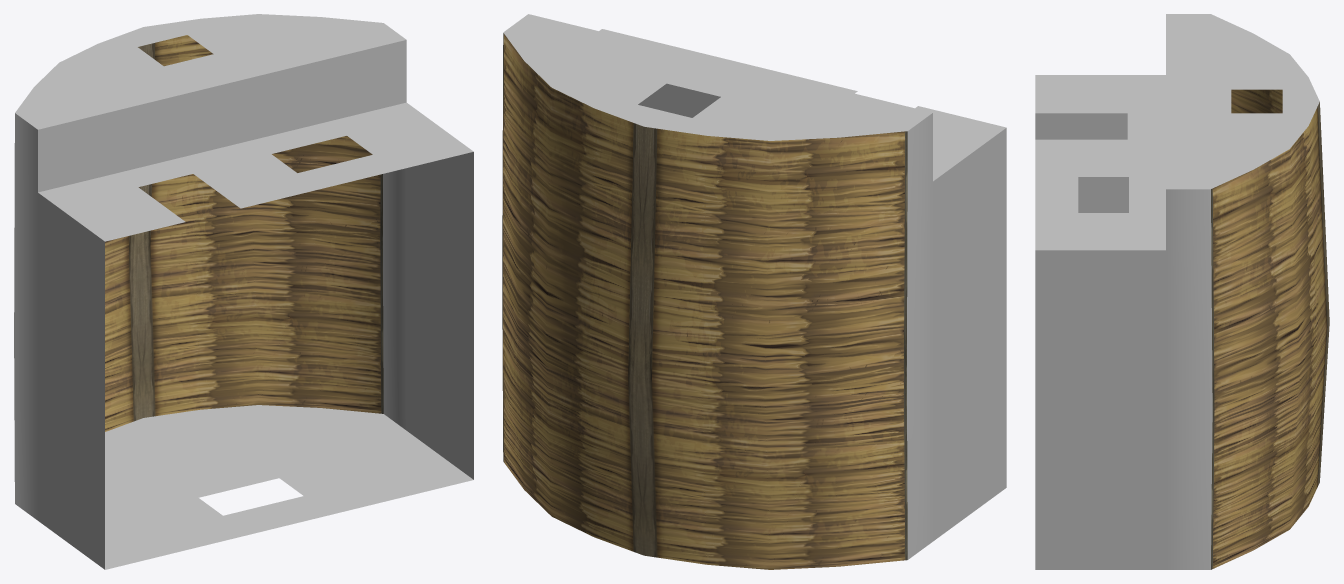
Rendered from Pirate_House_Interior_Type01_C.fbx.
3 views of the same model, side by side, from view 1: azimuth 30°, elevation 25°; view 2: azimuth 150°, elevation 25°; view 3: azimuth 270°, elevation 25° (orthographic). The views are drawn at different scales.
Parts seen in each view (by area): view 1: Pirate_House_Interior_Type01_C; view 2: Pirate_House_Interior_Type01_C; view 3: Pirate_House_Interior_Type01_C.
Part boxes in pixels (box(x1,y1,x2,y2)): Pirate_House_Interior_Type01_C: box(14, 14, 473, 569); Pirate_House_Interior_Type01_C: box(502, 14, 1006, 569); Pirate_House_Interior_Type01_C: box(1035, 14, 1329, 569).
Bounding box in the file's own units: 9.5 × 9.63 × 6.75.
